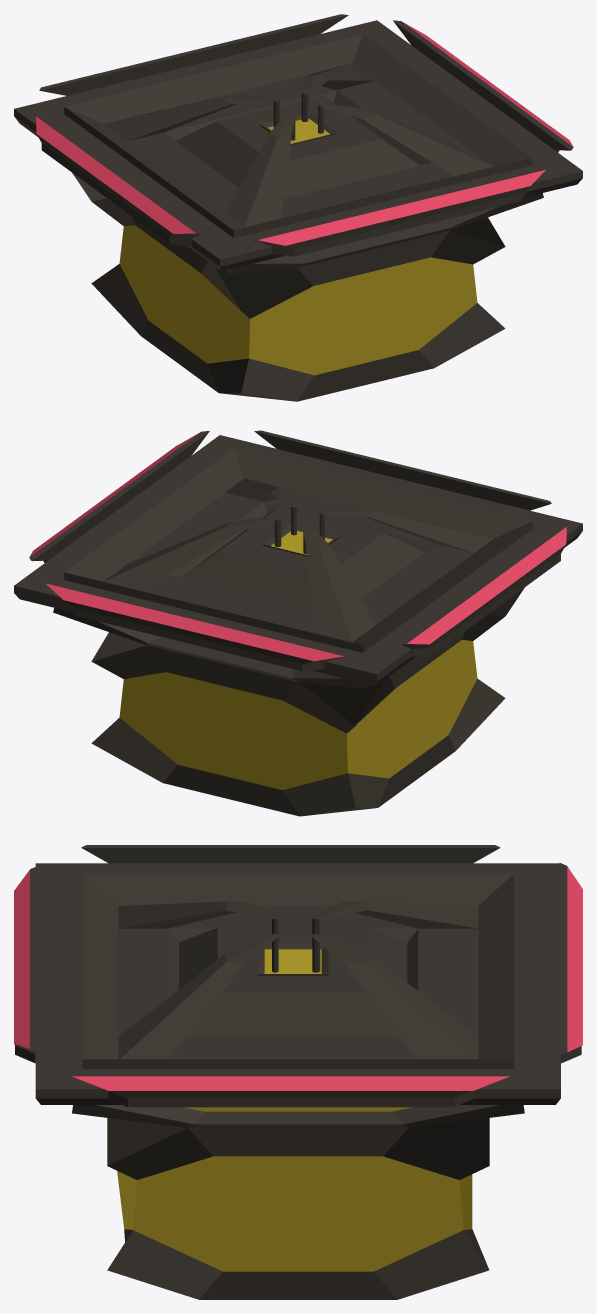
Rendered from Table.fbx.
The picture shows the model from 3 angles, top to bottom: view 1: azimuth 30°, elevation 25°; view 2: azimuth 150°, elevation 25°; view 3: azimuth 270°, elevation 25°; orthographic projection. The views are drawn at different scales.
Visible parts, largest first — view 1: Cube; view 2: Cube; view 3: Cube.
Boxes of the visible parts, x1,y1,x2,y2 form: Cube: (14, 14, 582, 401); Cube: (14, 430, 582, 816); Cube: (14, 845, 582, 1299).
Bounding box in the file's own units: 582 × 332 × 572.
